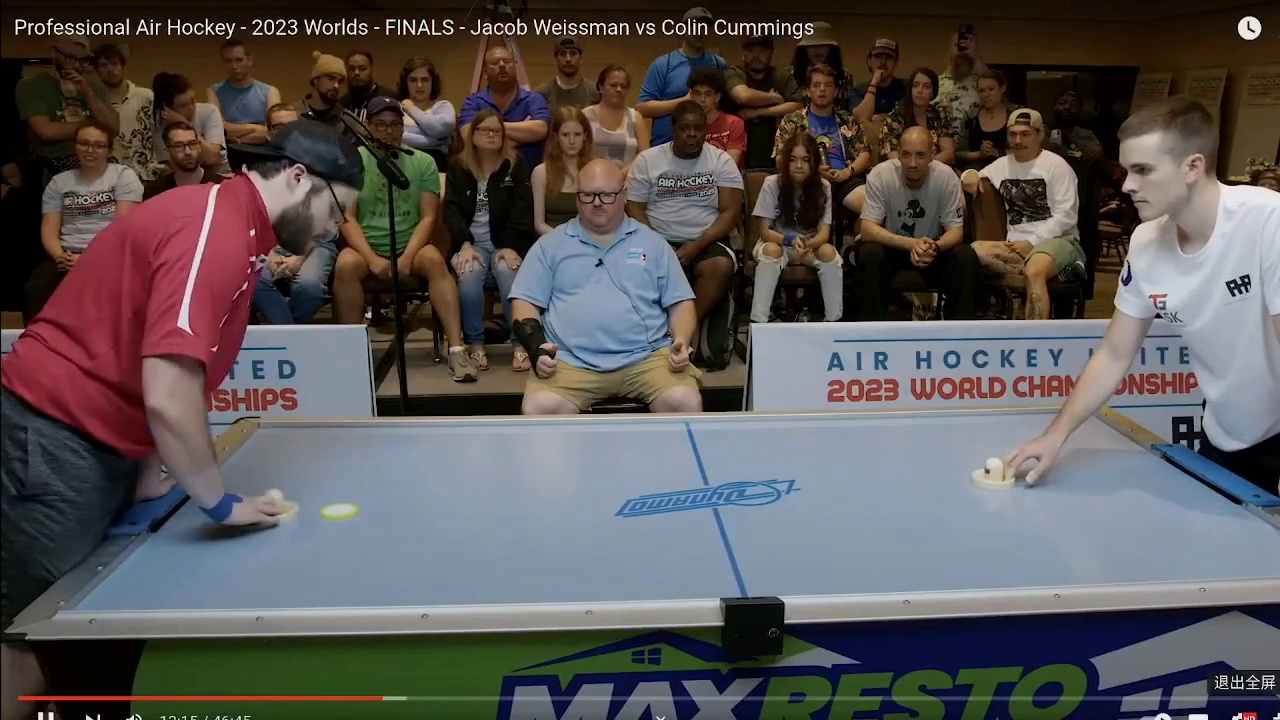player: (966, 452, 1024, 491), (255, 487, 298, 519)
puck: (318, 502, 364, 520)
table: (40, 419, 1280, 598)
